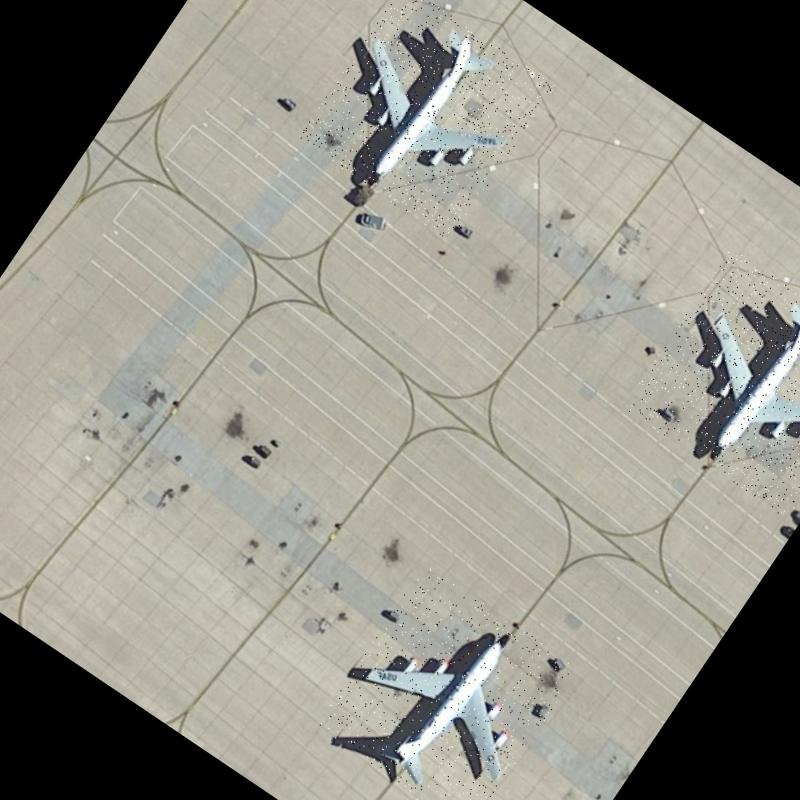A11: (312, 564, 579, 800), (297, 0, 555, 243), (622, 247, 800, 519)
